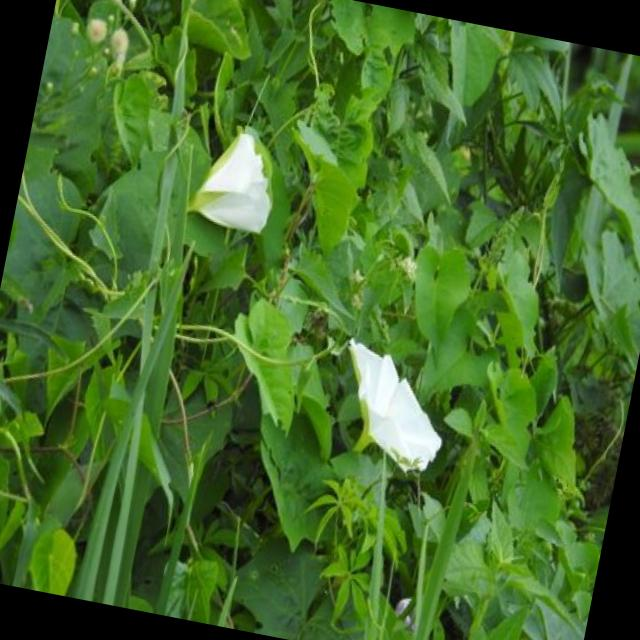ipomoea: (322, 333, 463, 486), (181, 119, 290, 247)
